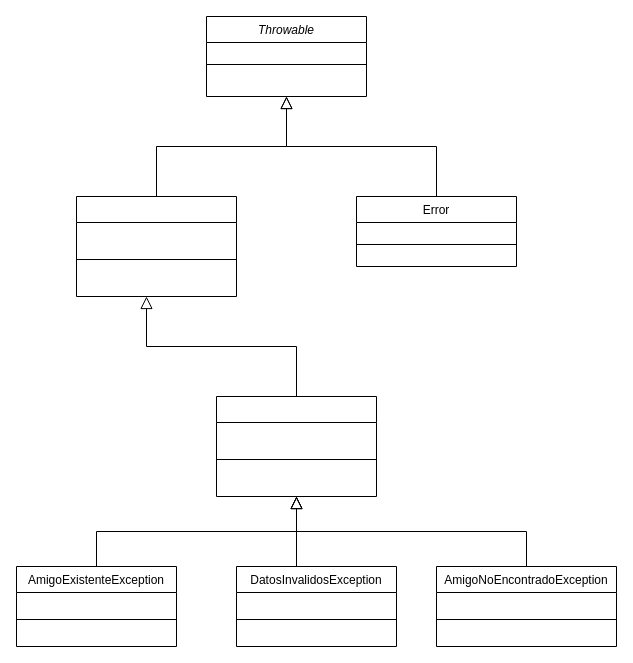
This 633x663 diagram has some shape labels left out. Each missing label, with the box of its shape:
Exception: (76, 196, 236, 296)
RunTimeException: (216, 396, 376, 496)
